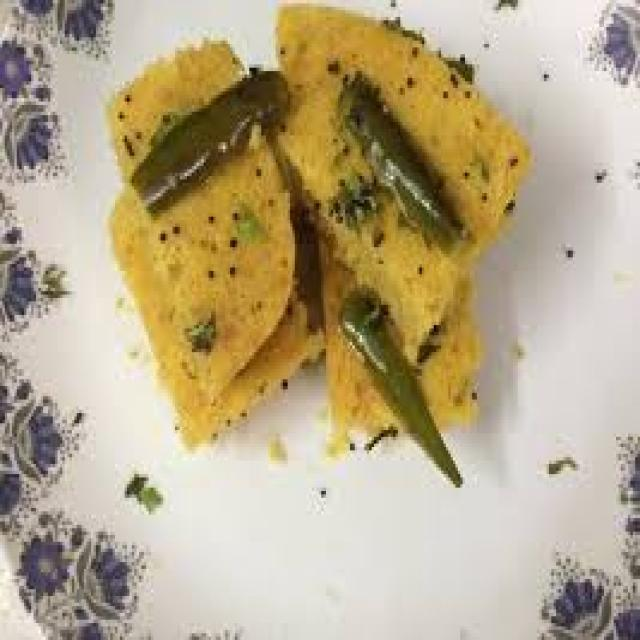DHOKLA: (277, 6, 539, 487), (102, 39, 326, 455)
